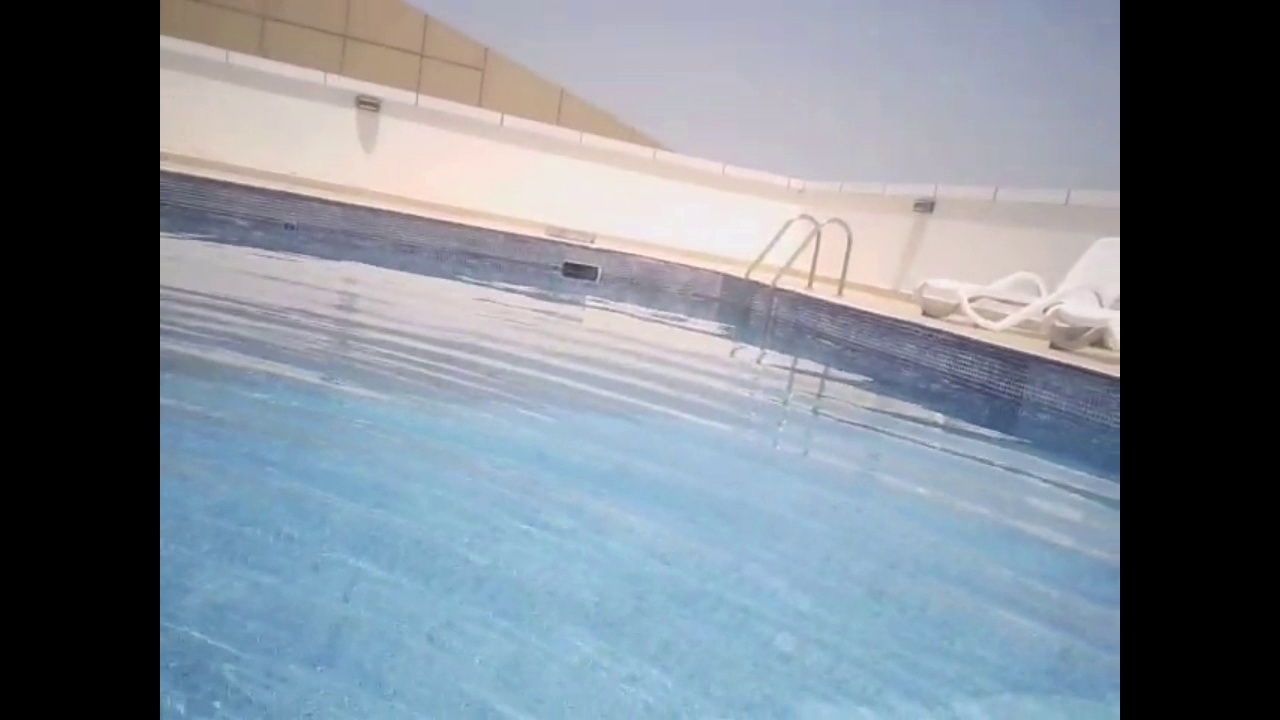debris: (279, 215, 301, 235)
